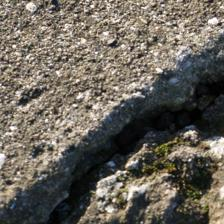Crack: (5, 23, 216, 198)
